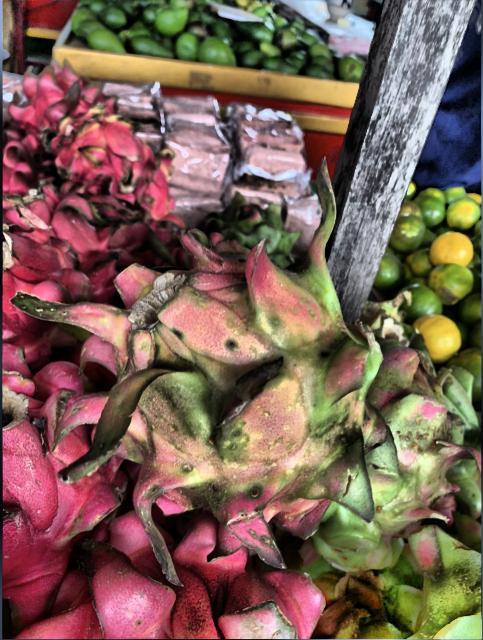buah-naga-belum-matang: (21, 227, 470, 565)
buah-naga-matang: (52, 494, 308, 640), (0, 338, 124, 612), (0, 182, 120, 346), (32, 96, 142, 180), (0, 186, 122, 260)
